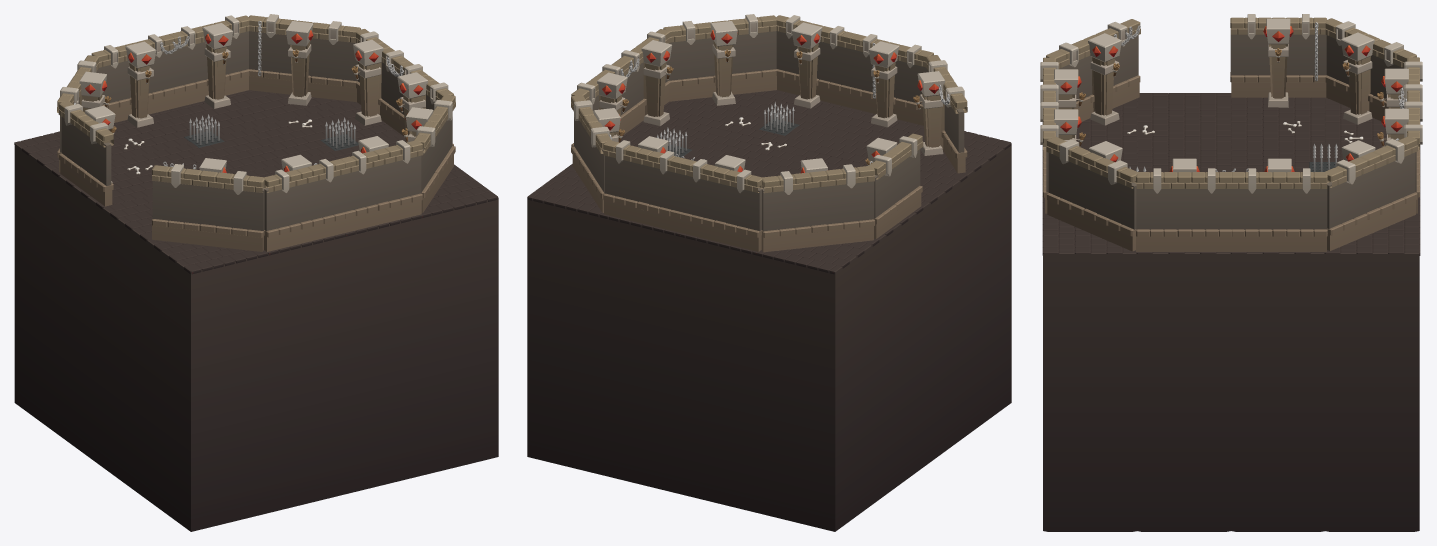
The model's file is dungeonkit_stone_boss.fbx.
The picture shows the model from 3 angles, left to right: view 1: azimuth 30°, elevation 25°; view 2: azimuth 150°, elevation 25°; view 3: azimuth 270°, elevation 25°; orthographic projection. The views are drawn at different scales.
Parts seen in each view (by area): view 1: Cube.017; view 2: Cube.017; view 3: Cube.017.
Boxes of the visible parts, x1,y1,x2,y2 form: Cube.017: [14, 14, 498, 531]; Cube.017: [527, 14, 1011, 531]; Cube.017: [1040, 14, 1422, 531].
Bounding box in the file's own units: 2729 × 2829 × 2723.
